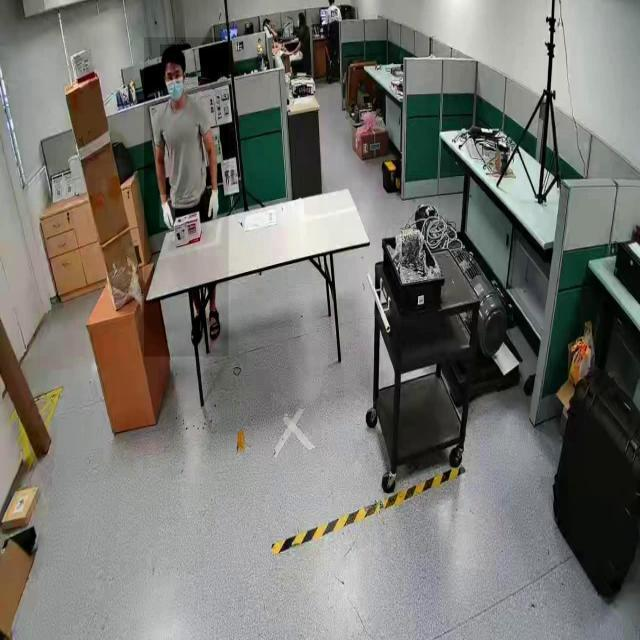gloves: (208, 184, 224, 222), (160, 194, 176, 228)
